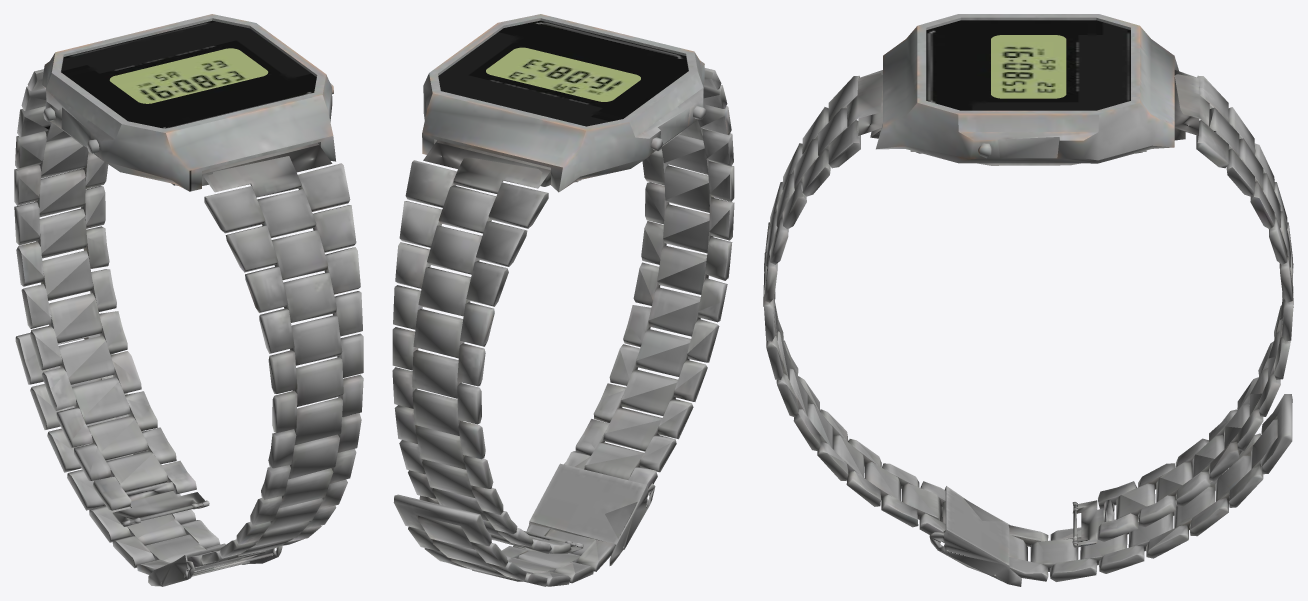
Rendered from reloj_pulsera-Bjgk_fPZ.glb.
3 views of the same model, side by side, from view 1: azimuth 30°, elevation 25°; view 2: azimuth 150°, elevation 25°; view 3: azimuth 270°, elevation 25° (orthographic). The views are drawn at different scales.
Visible parts, largest first — view 1: reloj_pulsera; view 2: reloj_pulsera; view 3: reloj_pulsera.
Boxes of the visible parts, x1,y1,x2,y2 form: reloj_pulsera: [14, 14, 363, 586]; reloj_pulsera: [392, 14, 734, 586]; reloj_pulsera: [763, 14, 1293, 586].
Bounding box in the file's own units: 0.0365 × 0.0717 × 0.0688.
Materials: 1 (1 with a texture image).
